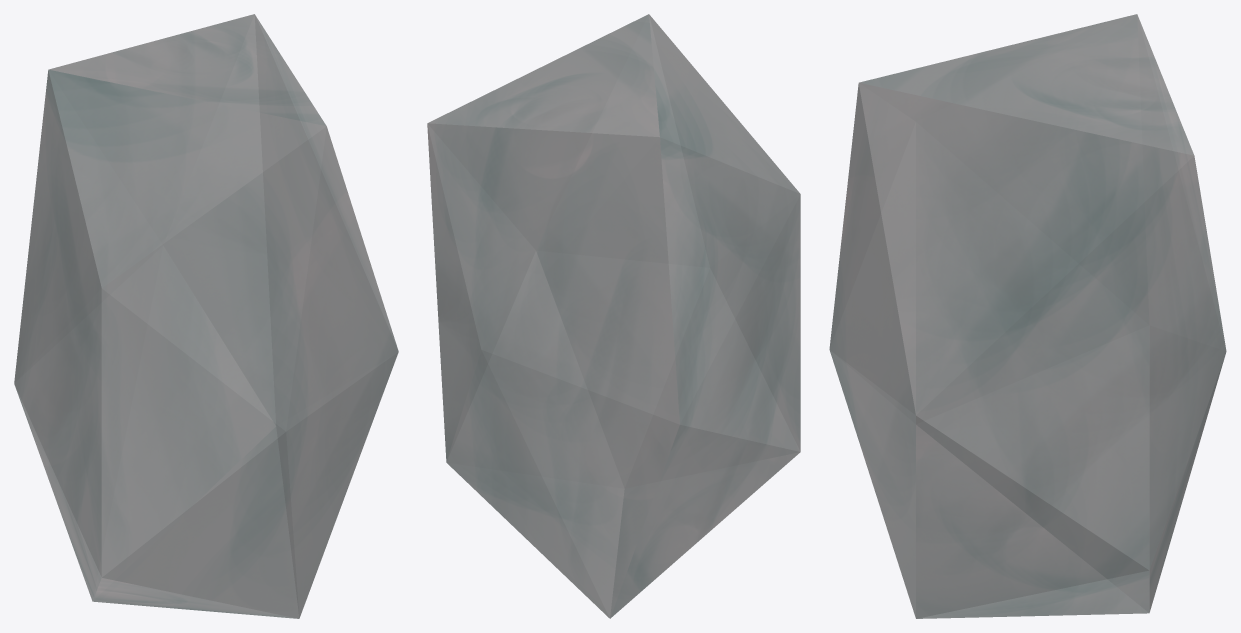
File: GroundRockCrystal.fbx
The picture shows the model from 3 angles, left to right: view 1: azimuth 30°, elevation 25°; view 2: azimuth 150°, elevation 25°; view 3: azimuth 270°, elevation 25°; orthographic projection. The views are drawn at different scales.
Visible parts, largest first — view 1: GroundRockCrystal; view 2: GroundRockCrystal; view 3: GroundRockCrystal.
Part boxes in pixels (bbox=[...]): GroundRockCrystal: bbox=[14, 14, 398, 618]; GroundRockCrystal: bbox=[427, 14, 800, 618]; GroundRockCrystal: bbox=[829, 14, 1226, 618].
Bounding box in the file's own units: 23.1 × 41.16 × 25.56.
1 material, 1 textured.
